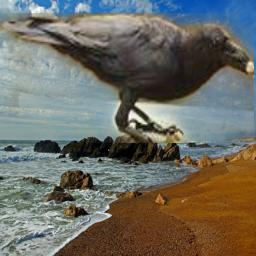Crow: (0, 13, 254, 143)
